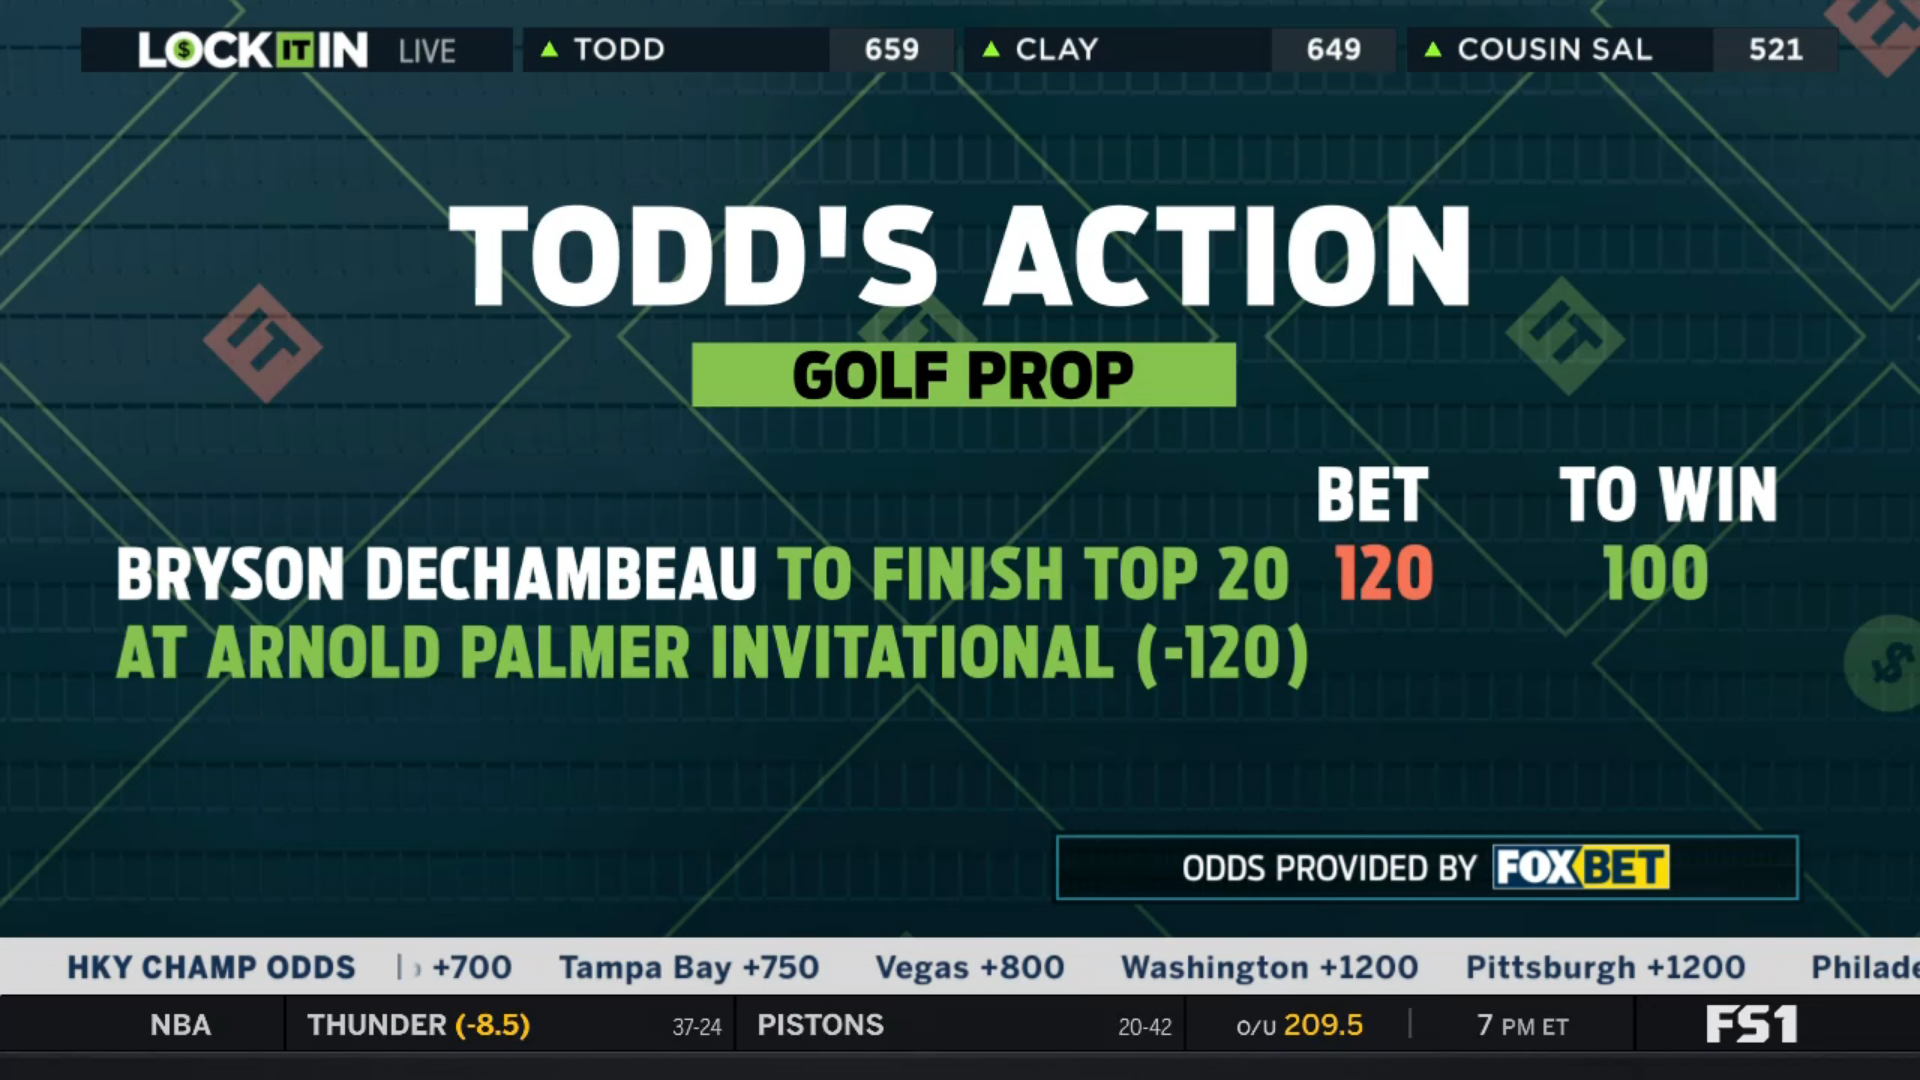Bet: (104, 531, 1319, 700)
Bet Amount: (1308, 448, 1447, 612)
Subtitle: (684, 332, 1247, 419)
Title: (435, 189, 1485, 323)
To Win: (1543, 452, 1792, 617)
Top Bar: (73, 16, 1845, 80)
